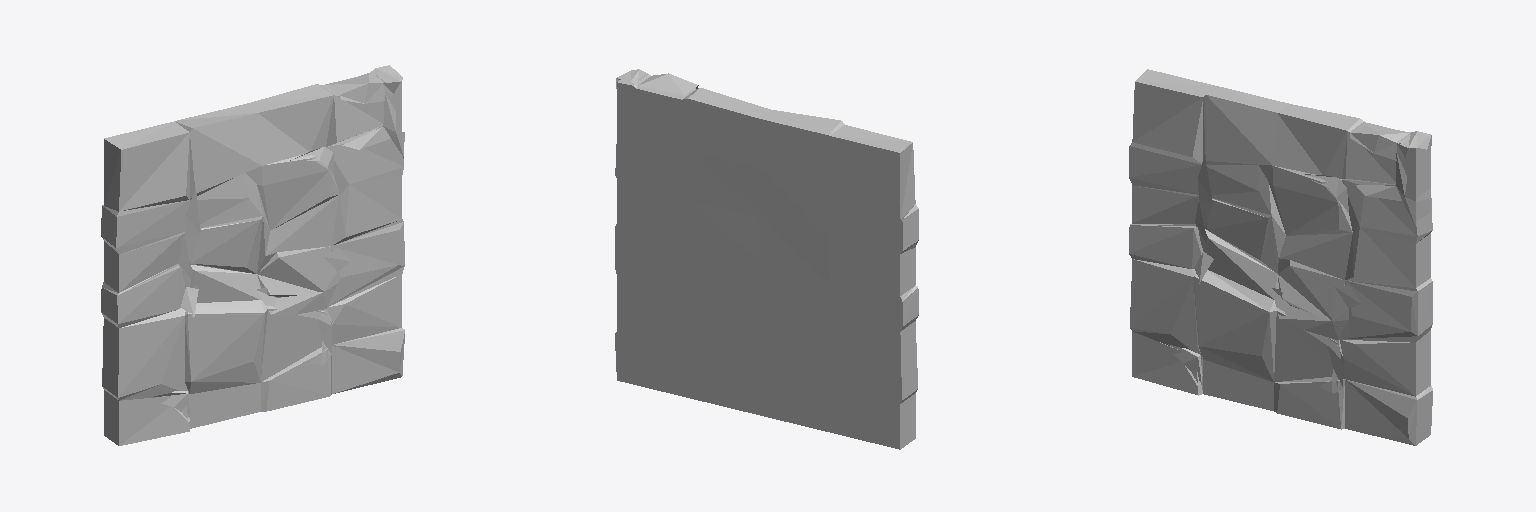
Rendered from pared_1.obj.
3 views of the same model, side by side, from view 1: azimuth 30°, elevation 25°; view 2: azimuth 150°, elevation 25°; view 3: azimuth 330°, elevation 25° (orthographic).
Parts seen in each view (by area): view 1: pared_1:initialShadingGroupinitialShadingGroupmuro_2musgo_7; view 2: pared_1:initialShadingGroupinitialShadingGroupmuro_2musgo_7; view 3: pared_1:initialShadingGroupinitialShadingGroupmuro_2musgo_7.
Boxes of the visible parts, <box> form: pared_1:initialShadingGroupinitialShadingGroupmuro_2musgo_7: <box>101,65,404,445</box>; pared_1:initialShadingGroupinitialShadingGroupmuro_2musgo_7: <box>615,69,918,449</box>; pared_1:initialShadingGroupinitialShadingGroupmuro_2musgo_7: <box>1129,69,1432,445</box>.
Size of the model in its own units: 4.08 by 4.07 by 0.4835.